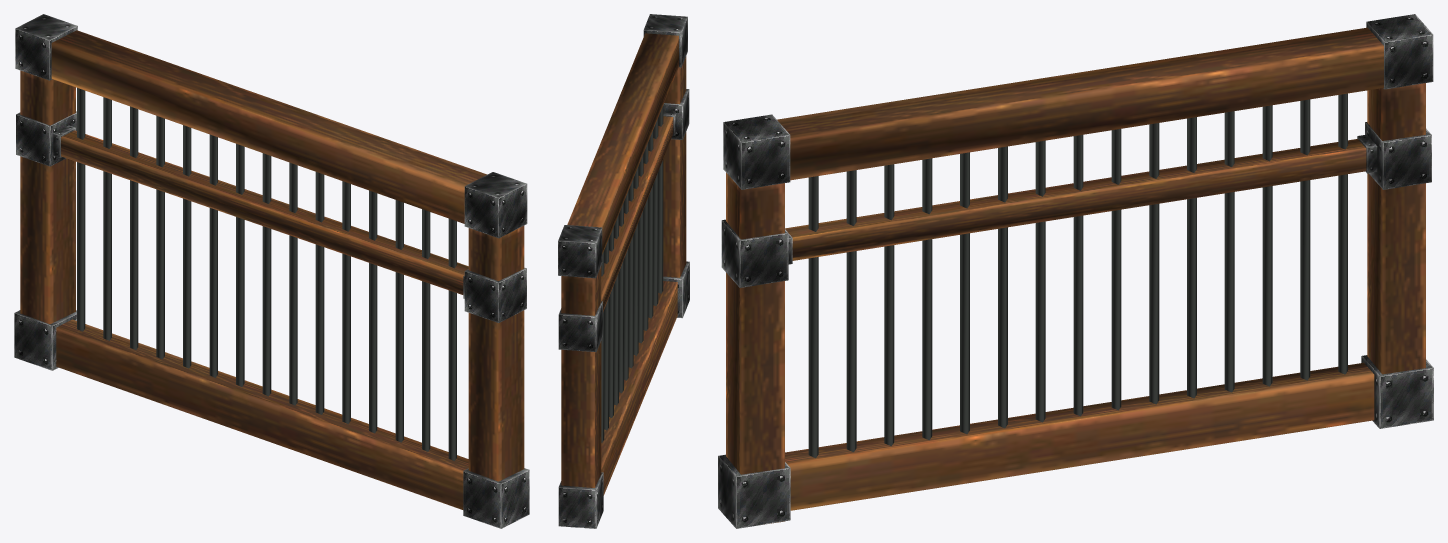
File: SWORDLIGHT20_JAILCELLBARS05.fbx
3 renders of one model, left to right at view 1: azimuth 30°, elevation 25°; view 2: azimuth 150°, elevation 25°; view 3: azimuth 270°, elevation 25°, orthographic. The views are drawn at different scales.
Visible parts, largest first — view 1: SWORDLIGHT20_JAILCELLBARS05; view 2: SWORDLIGHT20_JAILCELLBARS05; view 3: SWORDLIGHT20_JAILCELLBARS05.
Boxes of the visible parts, x1,y1,x2,y2 form: SWORDLIGHT20_JAILCELLBARS05: [14, 14, 529, 528]; SWORDLIGHT20_JAILCELLBARS05: [558, 14, 689, 528]; SWORDLIGHT20_JAILCELLBARS05: [718, 14, 1433, 528].
Size of the model in its own units: 26385 by 36866 by 61803.
3 materials, 3 textured.
